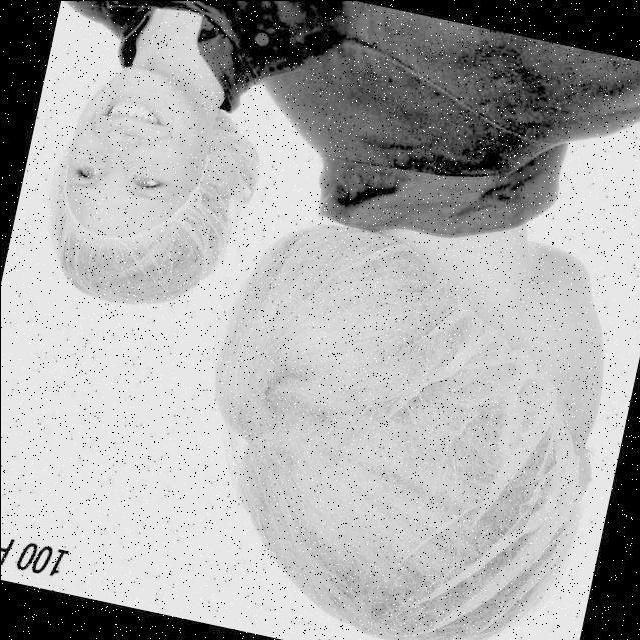gloves: (274, 346, 572, 638), (51, 215, 254, 316), (75, 422, 105, 438)
no_hairnet: (74, 73, 181, 164)
